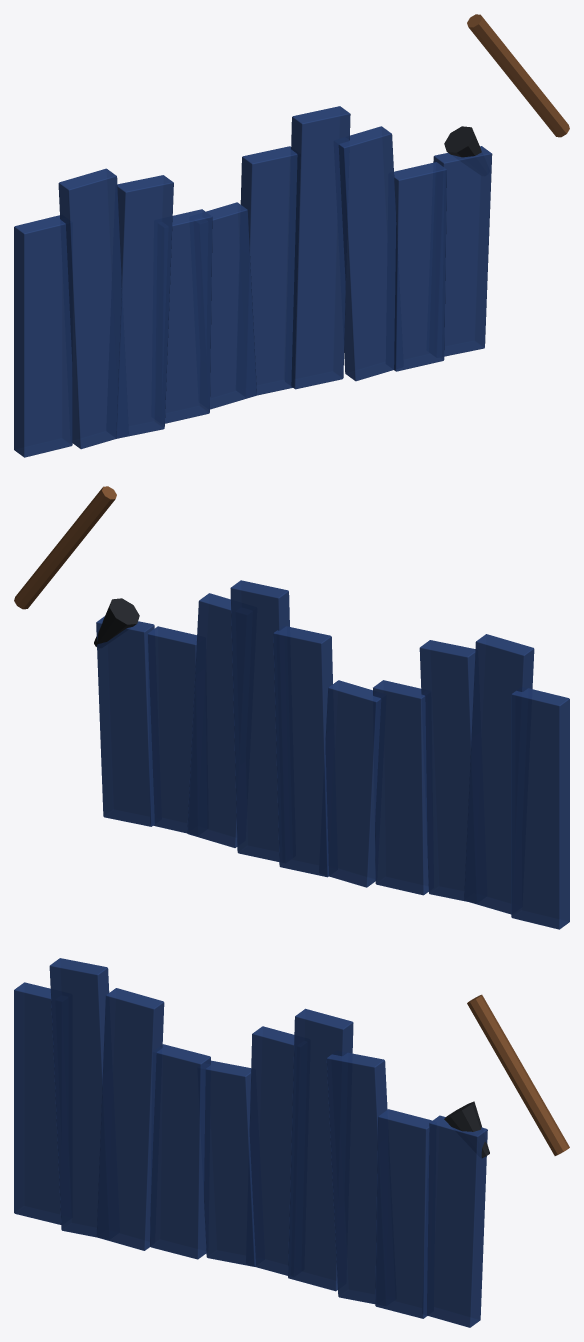
The model's file is brush_wall.glb.
3 renders of one model, top to bottom at view 1: azimuth 30°, elevation 25°; view 2: azimuth 150°, elevation 25°; view 3: azimuth 330°, elevation 25°, orthographic.
Visible parts, largest first — view 1: stroke_1, stroke_6, stroke_0, stroke_2, stroke_7, stroke_5, stroke_8, stroke_3, stroke_9, stroke_4, brush_handle, brush_tip; view 2: stroke_0, stroke_5, stroke_1, stroke_6, stroke_2, stroke_3, stroke_7, stroke_9, stroke_4, stroke_8, brush_handle, brush_tip; view 3: stroke_2, stroke_1, stroke_6, stroke_7, stroke_9, stroke_3, stroke_8, stroke_0, stroke_5, stroke_4, brush_handle, brush_tip.
Part boxes in pixels (left/top/right/bottom): stroke_1: left=58, top=168, right=121, bottom=449; stroke_6: left=291, top=106, right=350, bottom=389; stroke_0: left=14, top=215, right=72, bottom=457; stroke_2: left=116, top=175, right=173, bottom=438; stroke_7: left=338, top=126, right=396, bottom=381; stroke_5: left=240, top=146, right=297, bottom=395; stroke_8: left=394, top=162, right=446, bottom=371; stroke_3: left=165, top=209, right=212, bottom=423; stroke_9: left=433, top=146, right=492, bottom=356; stroke_4: left=206, top=202, right=256, bottom=409; brush_handle: left=467, top=14, right=569, bottom=137; brush_tip: left=444, top=126, right=481, bottom=171; stroke_0: left=511, top=688, right=569, bottom=929; stroke_5: left=273, top=626, right=332, bottom=877; stroke_1: left=464, top=634, right=534, bottom=914; stroke_6: left=230, top=580, right=289, bottom=861; stroke_2: left=419, top=640, right=475, bottom=901; stroke_3: left=373, top=680, right=428, bottom=895; stroke_7: left=187, top=593, right=237, bottom=847; stroke_9: left=96, top=616, right=154, bottom=826; stroke_4: left=325, top=680, right=381, bottom=887; stroke_8: left=148, top=626, right=196, bottom=833; brush_handle: left=14, top=486, right=116, bottom=609; brush_tip: left=94, top=598, right=139, bottom=647; stroke_2: left=96, top=988, right=164, bottom=1250; stroke_1: left=49, top=958, right=109, bottom=1237; stroke_6: left=288, top=1008, right=353, bottom=1291; stroke_7: left=326, top=1052, right=387, bottom=1304; stroke_9: left=427, top=1115, right=487, bottom=1327; stroke_3: left=150, top=1044, right=210, bottom=1259; stroke_8: left=375, top=1109, right=432, bottom=1318; stroke_0: left=14, top=982, right=61, bottom=1224; stroke_5: left=249, top=1026, right=294, bottom=1275; stroke_4: left=204, top=1060, right=255, bottom=1266; brush_handle: left=467, top=994, right=569, bottom=1155; brush_tip: left=444, top=1101, right=489, bottom=1158.
Size of the model in its own units: 3.59 by 2.05 by 0.2369.
